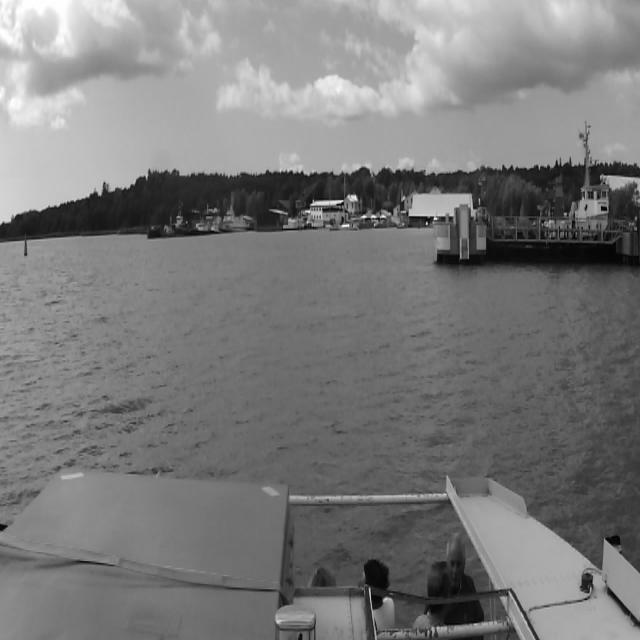ship: (337, 172, 361, 230), (190, 207, 222, 234), (224, 206, 252, 232), (174, 214, 189, 237)
